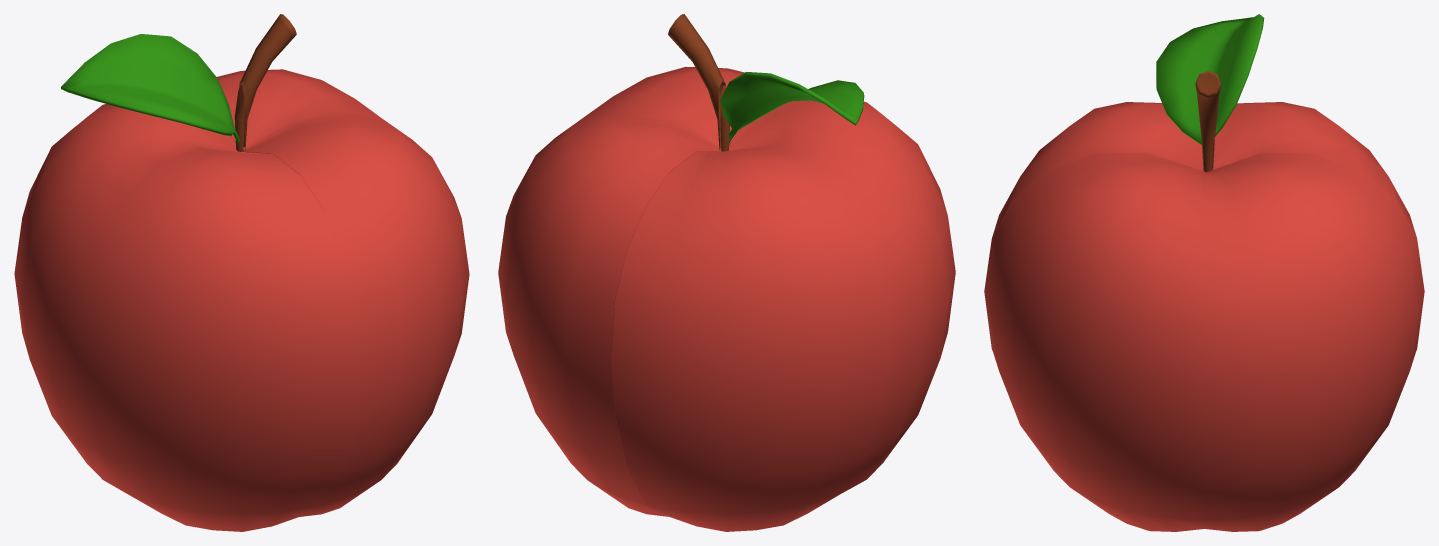
File: AppelExploude.fbx
The picture shows the model from 3 angles, left to right: view 1: azimuth 30°, elevation 25°; view 2: azimuth 150°, elevation 25°; view 3: azimuth 270°, elevation 25°; orthographic projection. The views are drawn at different scales.
Visible parts, largest first — view 1: Apple.002, Apple.001, Apple; view 2: Apple.002, Apple.001, Apple; view 3: Apple.001, Apple.002, Apple.
Part boxes in pixels (box(x1,y1,x2,y2)): Apple.002: box(14, 104, 357, 531); Apple.001: box(217, 69, 469, 516); Apple: box(61, 14, 296, 151); Apple.002: box(611, 100, 955, 531); Apple.001: box(498, 67, 744, 516); Apple: box(668, 14, 864, 151); Apple.001: box(984, 152, 1424, 531); Apple.002: box(984, 102, 1424, 349); Apple: box(1156, 14, 1264, 171).
Size of the model in its own units: 202 by 231 by 203.
